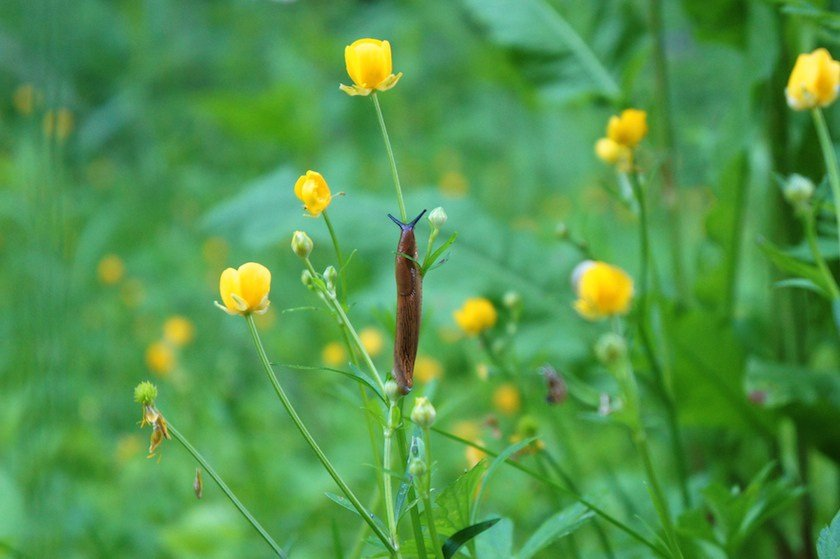slug: (387, 207, 426, 400)
